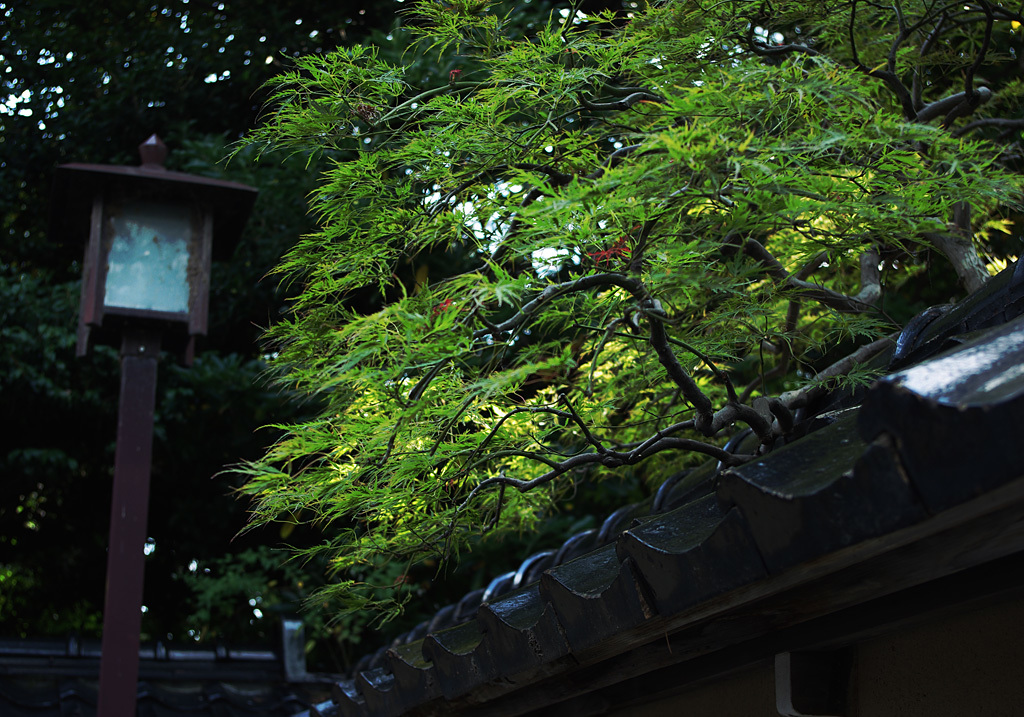Tree: (184, 0, 1022, 651), (0, 0, 385, 655)
